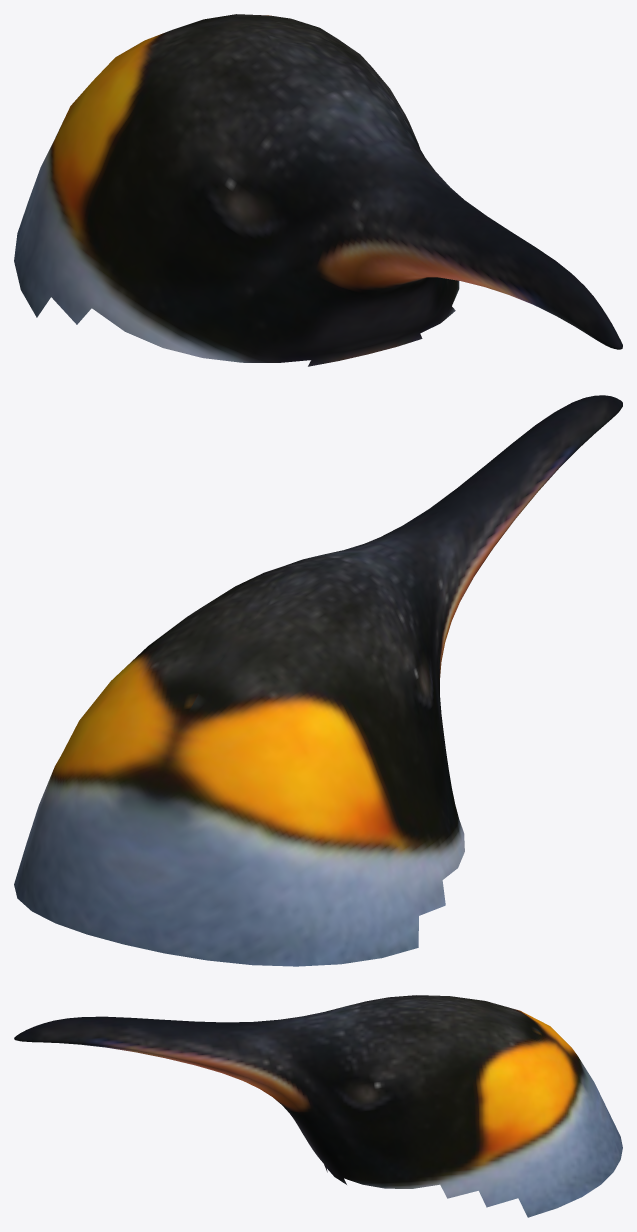
Rendered from cabezaPinguino.obj.
3 renders of one model, top to bottom at view 1: azimuth 30°, elevation 25°; view 2: azimuth 150°, elevation 25°; view 3: azimuth 270°, elevation 25°, orthographic. The views are drawn at different scales.
Parts seen in each view (by area): view 1: cabezaPinguino; view 2: cabezaPinguino; view 3: cabezaPinguino.
Boxes of the visible parts, x1=… form: cabezaPinguino: x1=14, y1=14, x2=622, y2=366; cabezaPinguino: x1=14, y1=395, x2=622, y2=966; cabezaPinguino: x1=14, y1=995, x2=622, y2=1217.
Size of the model in its own units: 1.58 by 1.08 by 3.62.
1 material, 1 textured.
